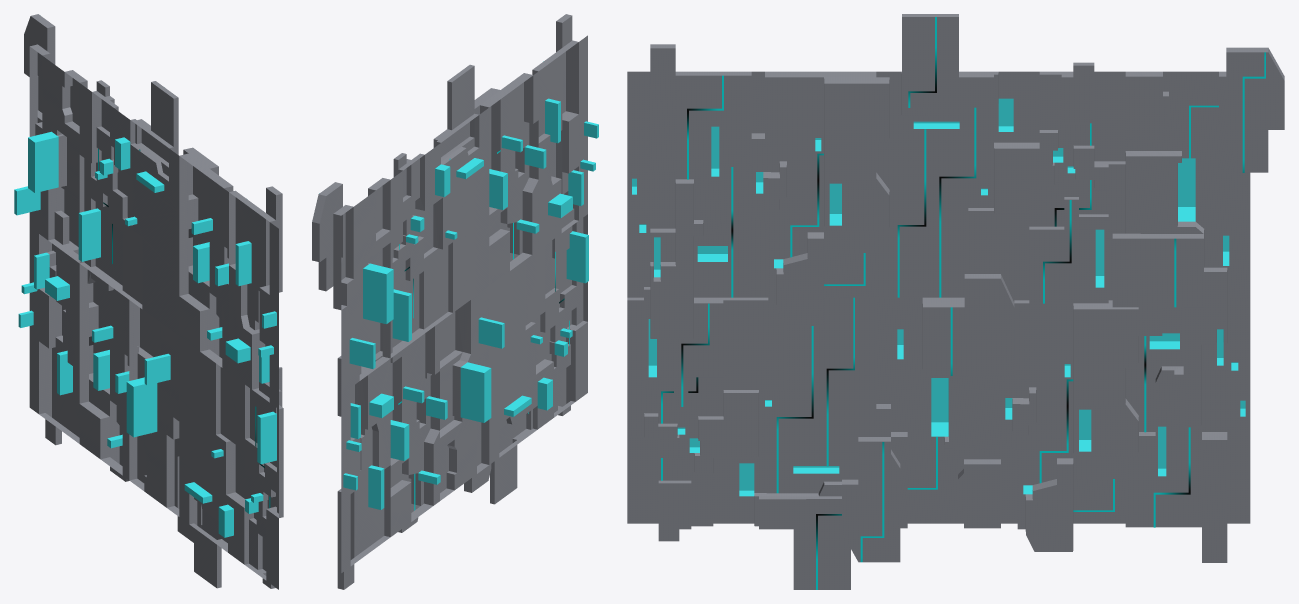
Rendered from AllRoomBb.fbx.
The picture shows the model from 3 angles, left to right: view 1: azimuth 30°, elevation 25°; view 2: azimuth 150°, elevation 25°; view 3: azimuth 270°, elevation 25°; orthographic projection. The views are drawn at different scales.
Parts seen in each view (by area): view 1: SM_VA_AllRoomBb.mo; view 2: SM_VA_AllRoomBb.mo; view 3: SM_VA_AllRoomBb.mo.
Part boxes in pixels (box(x1,y1,x2,y2)): SM_VA_AllRoomBb.mo: box(14, 14, 283, 589); SM_VA_AllRoomBb.mo: box(312, 14, 598, 589); SM_VA_AllRoomBb.mo: box(627, 14, 1284, 589).
Size of the model in its own units: 49.5 by 507 by 528.
